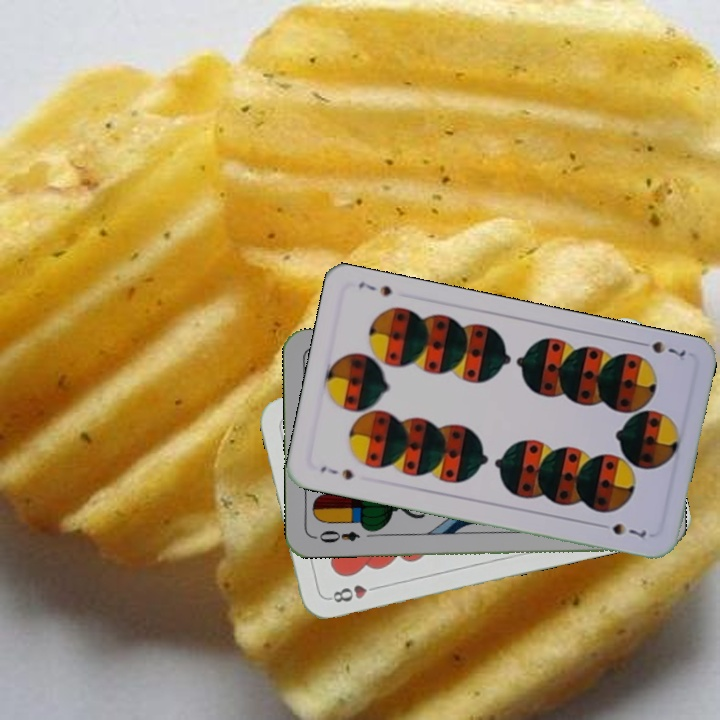EO: (310, 527, 362, 546)
H8: (325, 580, 383, 605)
S7: (633, 337, 689, 359), (316, 462, 356, 483)
